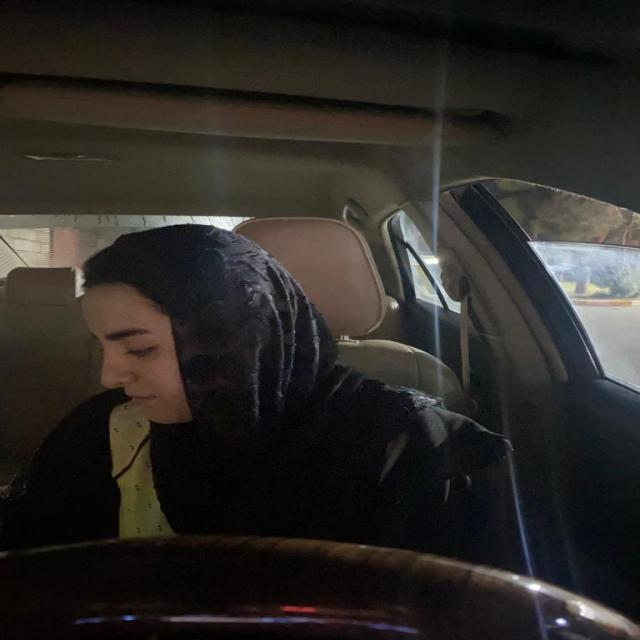drowsy: (67, 218, 315, 443)
